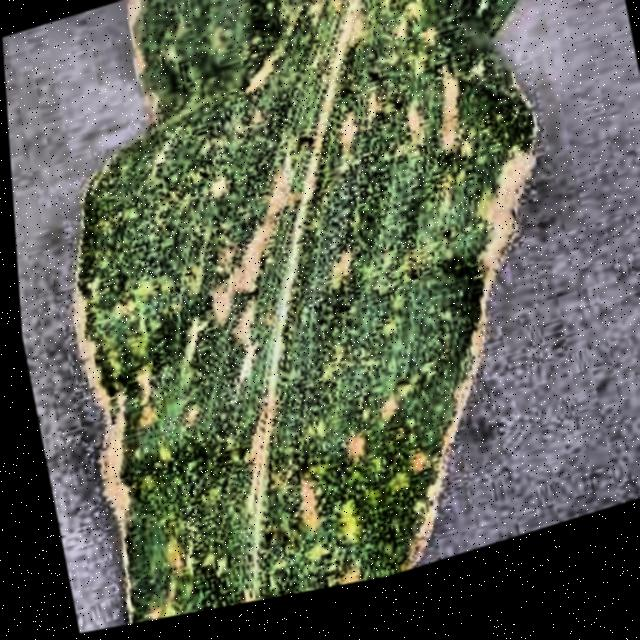gray_spot: (23, 0, 538, 636)
